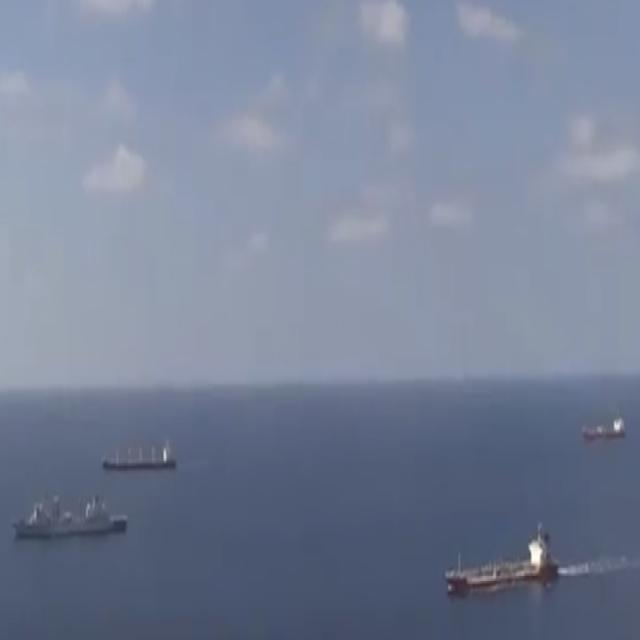cargoship: (444, 522, 560, 598), (105, 434, 181, 472), (576, 409, 632, 446)
navalvessels: (8, 492, 131, 544)
